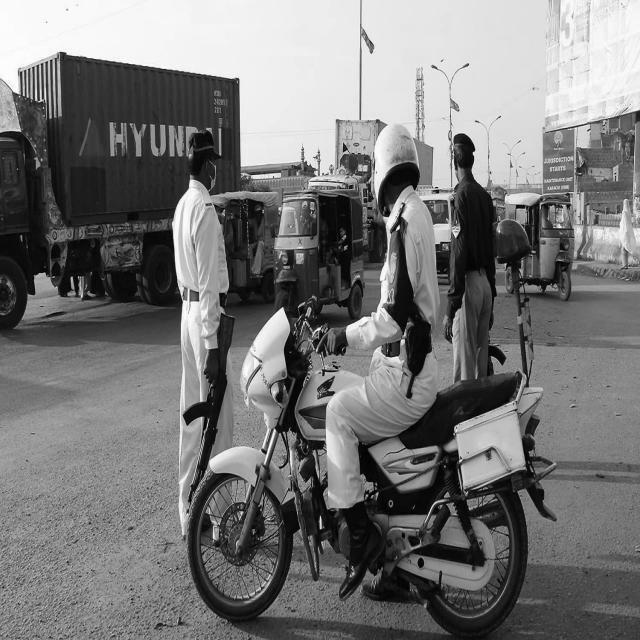Motorbike: (187, 127, 559, 640)
